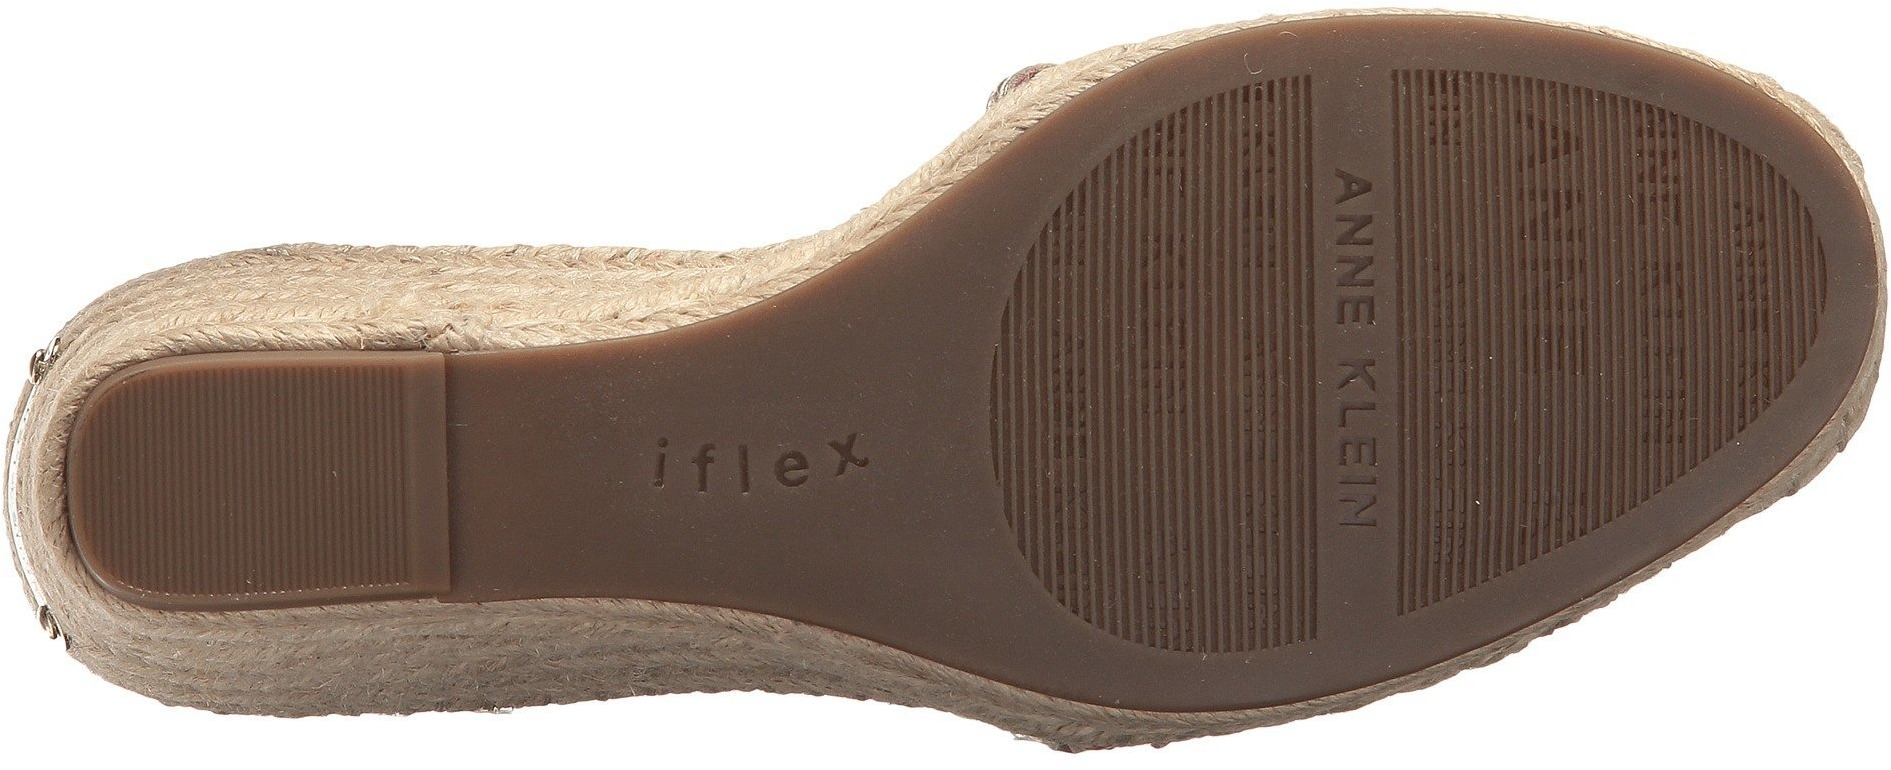exclude: (439, 293, 646, 632)
other: (1037, 363, 1266, 590), (1415, 299, 1631, 498), (1091, 167, 1302, 358), (1397, 111, 1598, 275), (96, 399, 277, 576), (1635, 205, 1793, 363), (283, 457, 408, 582)
text: (642, 412, 767, 546), (772, 412, 883, 524), (1300, 165, 1401, 262), (1315, 275, 1399, 352), (1324, 371, 1399, 457), (1325, 468, 1403, 546)
